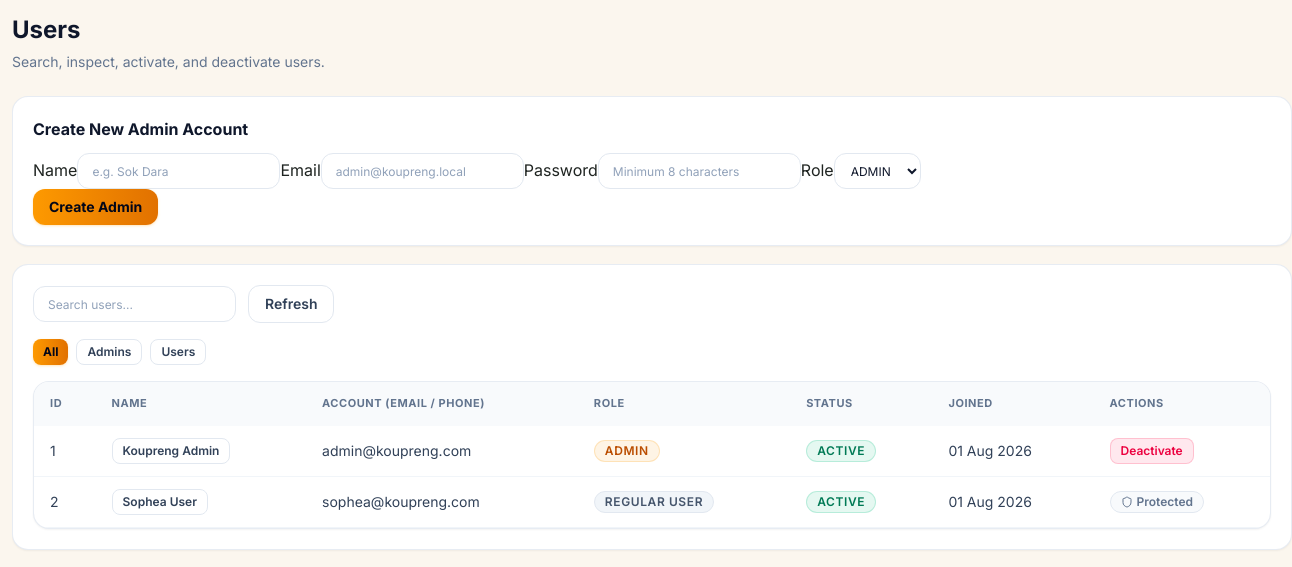
it: Domain Feature Modules › filters users by role and requires an email address for new admins
Expected: the link "Koupreng Admin" is shown, [112,438,230,464]
Type "invalid-email" into the field with placeholder "admin@koupreng.local" at (422, 171), box [321,153,524,189]
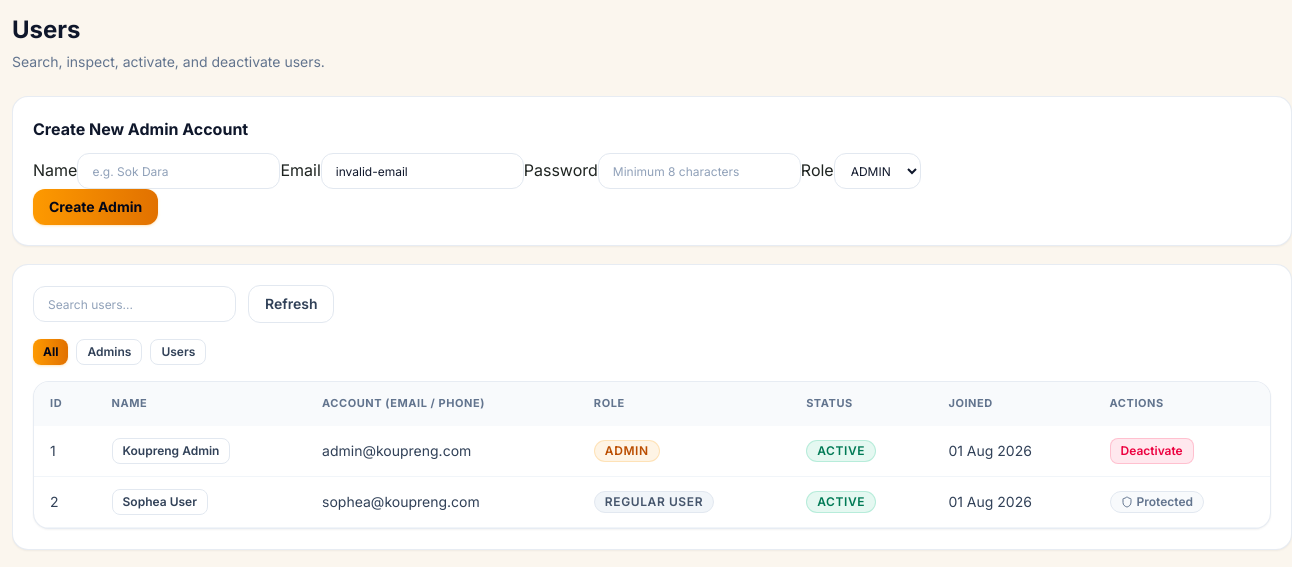
Click the tab "Users" at (178, 352), box [150,339,206,365]
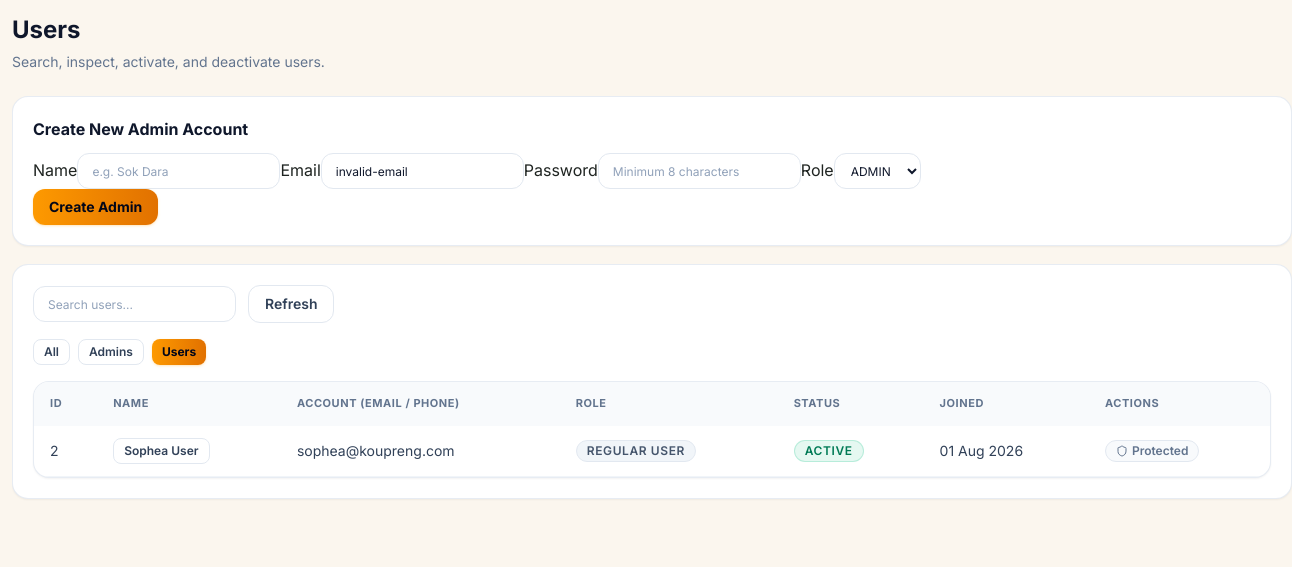
Expected: the link "Sophea User" is shown, [113,438,210,464]
Expected: the link "Koupreng Admin" is gone
